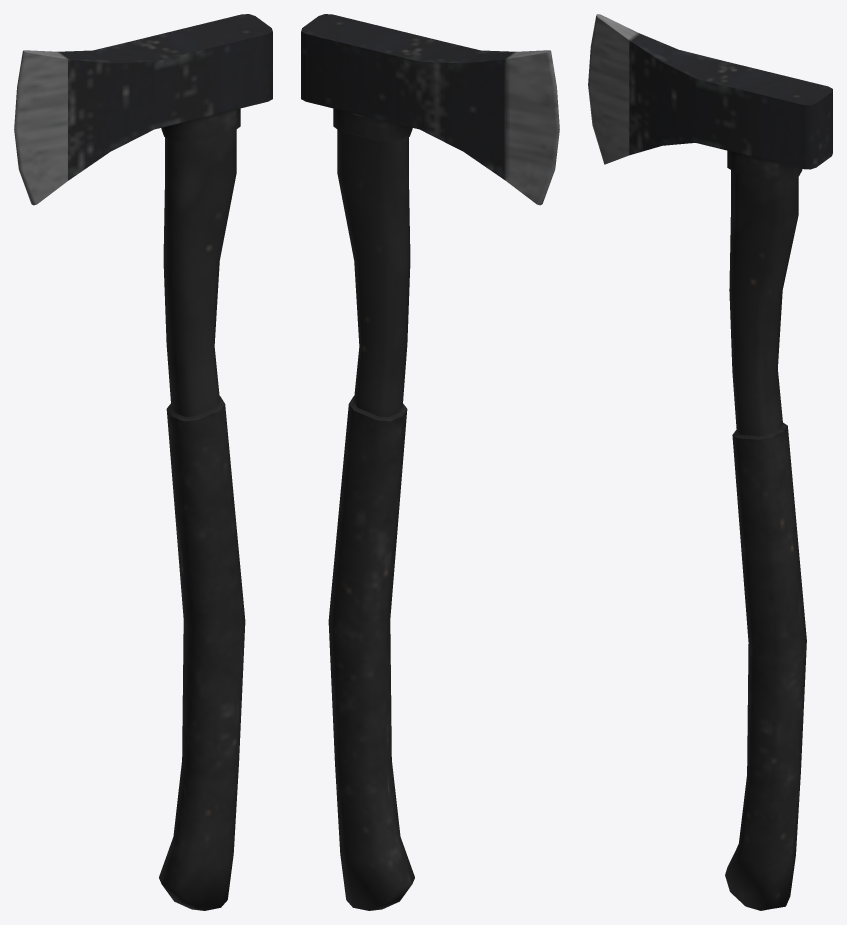
File: modern_axe.obj
3 renders of one model, left to right at view 1: azimuth 30°, elevation 25°; view 2: azimuth 150°, elevation 25°; view 3: azimuth 330°, elevation 25°, orthographic. The views are drawn at different scales.
Parts seen in each view (by area): view 1: Axe_grip, Axe_blade; view 2: Axe_grip, Axe_blade; view 3: Axe_grip, Axe_blade.
Part boxes in pixels (<box>): Axe_grip: <box>159,130,245,910</box>; Axe_blade: <box>14,14,272,205</box>; Axe_grip: <box>328,130,414,910</box>; Axe_blade: <box>301,14,559,205</box>; Axe_grip: <box>725,170,806,910</box>; Axe_blade: <box>588,14,832,182</box>.
Size of the model in its own units: 0.3101 by 1.07 by 0.0575.
